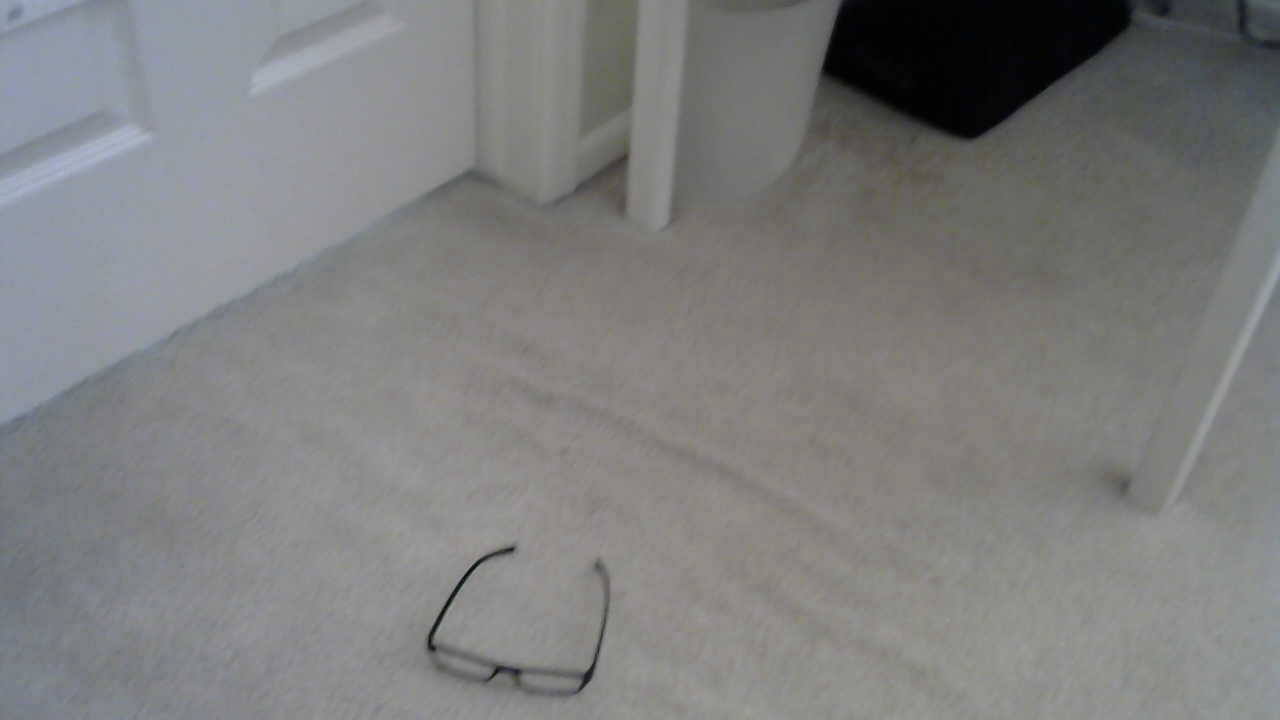Glasses: (411, 498, 644, 719)
